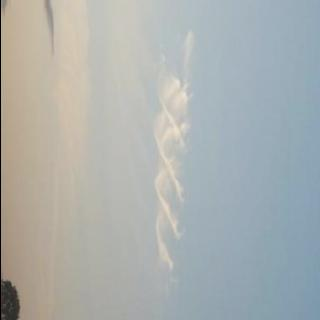Cirrus: (117, 27, 215, 304)
